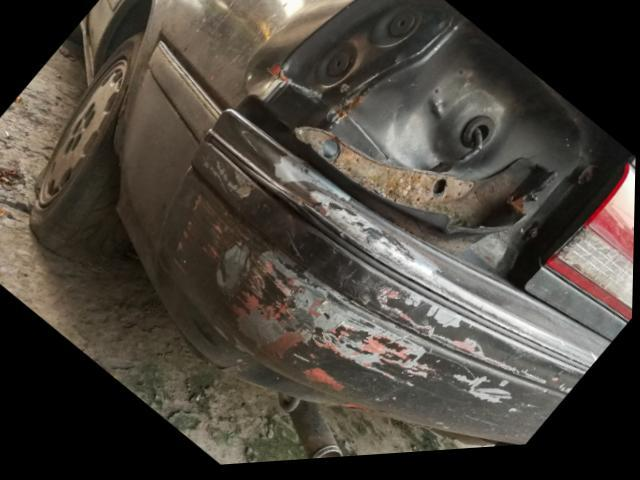no part: (254, 0, 632, 296)
scratch: (172, 150, 581, 438)
tire flat: (27, 32, 143, 271)
